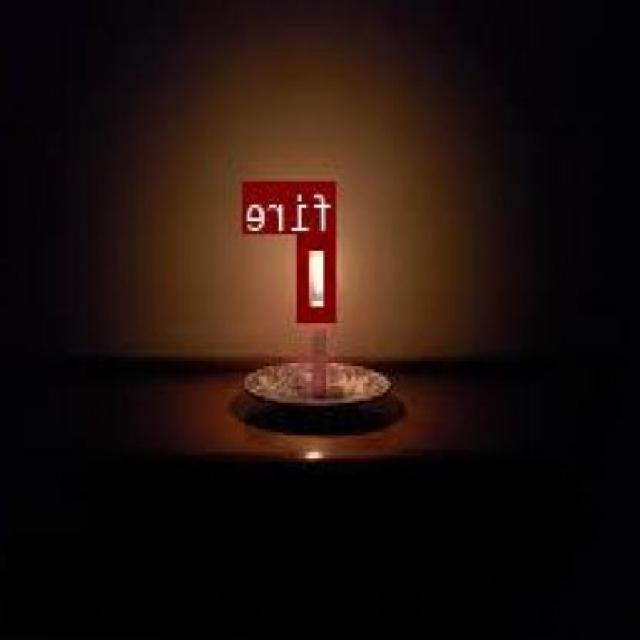fire: (300, 234, 338, 318)
